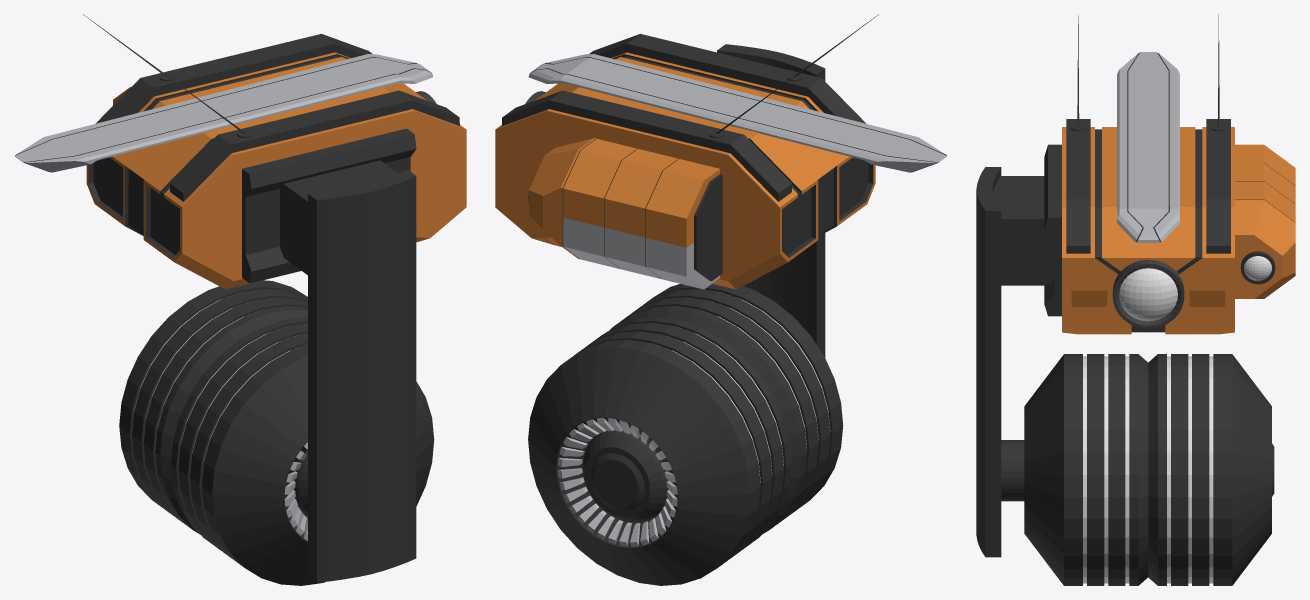
File: bot.fbx
3 views of the same model, side by side, from view 1: azimuth 30°, elevation 25°; view 2: azimuth 150°, elevation 25°; view 3: azimuth 270°, elevation 25° (orthographic). The views are drawn at different scales.
Visible parts, largest first — view 1: Cube.002, Cube, Cylinder, Cube.003; view 2: Cylinder, Cube.002, Cube.003, Cube; view 3: Cylinder, Cube.002, Cube, Cube.003, Sphere, Cylinder.002, Cylinder.001, Sphere.001, Cylinder.005.
Boxes of the visible parts, x1,y1,x2,y2 form: Cube.002: (86,34,466,289); Cube: (280,160,416,582); Cylinder: (119,280,434,585); Cube.003: (15,54,432,172); Cylinder: (528,284,843,585); Cube.002: (495,34,875,289); Cube.003: (528,54,947,172); Cube: (717,44,825,357); Cylinder: (1024,354,1274,585); Cube.002: (1044,119,1295,334); Cube: (976,167,1054,557); Cube.003: (1117,52,1179,242); Sphere: (1119,268,1177,321); Cylinder.002: (1112,259,1184,328); Cylinder.001: (1001,440,1024,501); Sphere.001: (1244,256,1271,280); Cylinder.005: (1240,251,1275,284).
Bounding box in the file's own units: 68.61 × 85.62 × 50.25.
